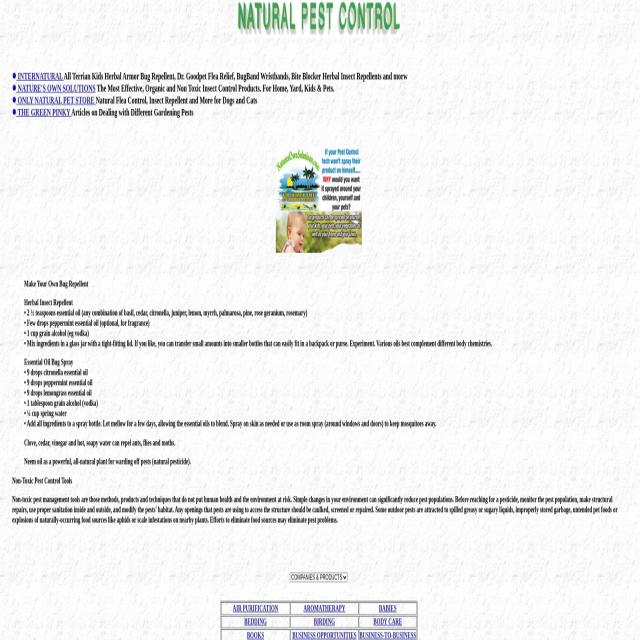button: (276, 148, 362, 253), (237, 0, 401, 38), (12, 72, 16, 79), (12, 85, 16, 92), (12, 96, 16, 103), (12, 108, 16, 115)
field: (290, 572, 348, 582)
